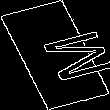M_W: (10, 25, 100, 85)
